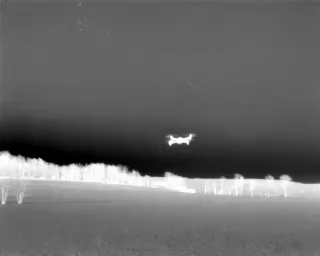DRONE: (162, 128, 200, 152)
